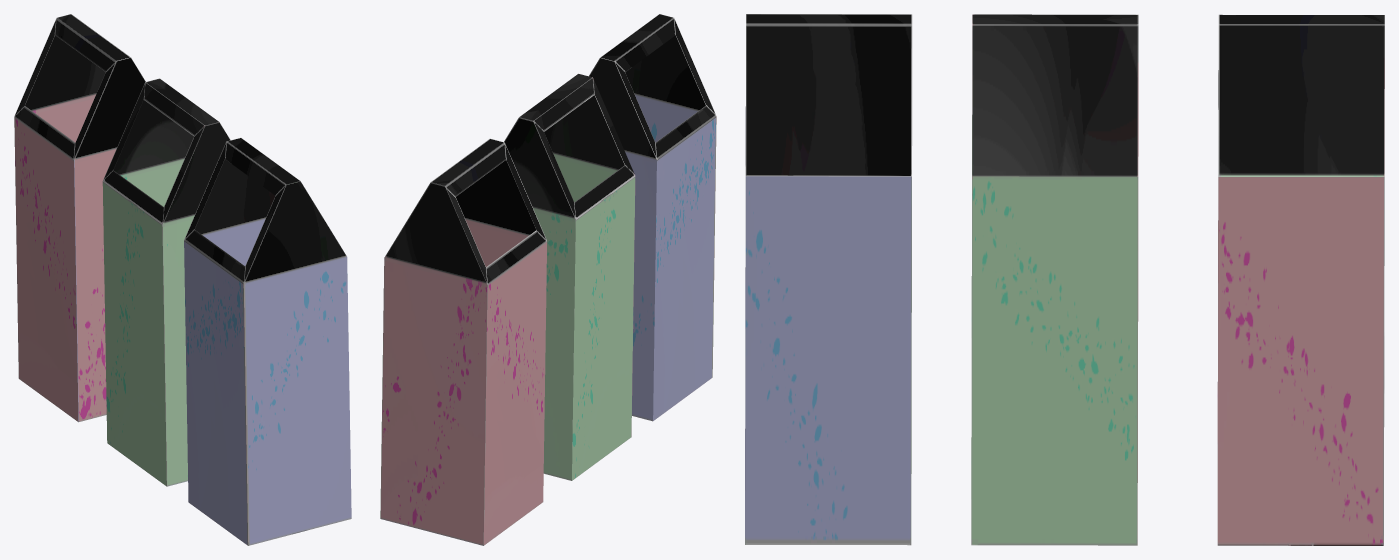
File: Trashcan.obj
The picture shows the model from 3 angles, left to right: view 1: azimuth 30°, elevation 25°; view 2: azimuth 150°, elevation 25°; view 3: azimuth 270°, elevation 25°; orthographic projection. The views are drawn at different scales.
Parts seen in each view (by area): view 1: Trashcan_0; view 2: Trashcan_0; view 3: Trashcan_0.
Part boxes in pixels (x1,y1,x2,y2): Trashcan_0: [14, 14, 351, 545]; Trashcan_0: [380, 14, 716, 545]; Trashcan_0: [745, 14, 1384, 545].
Bounding box in the file's own units: 5.11 × 15.97 × 18.87.
Materials: 1 (1 with a texture image).
